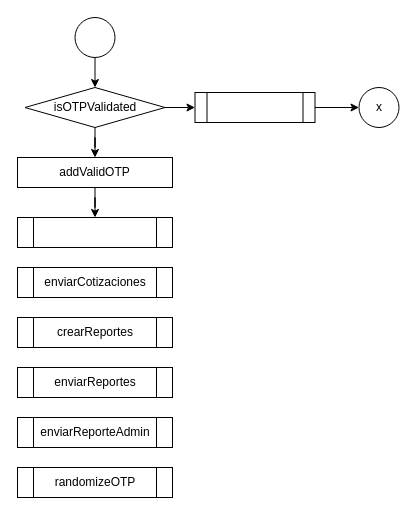
Image size: 417x515. Some labels were removed from this diagram. Each missing label, with the centre of its shape:
generarDocDefont: (94,232)
infoNoValidOTP: (254,107)
init: (94,37)
